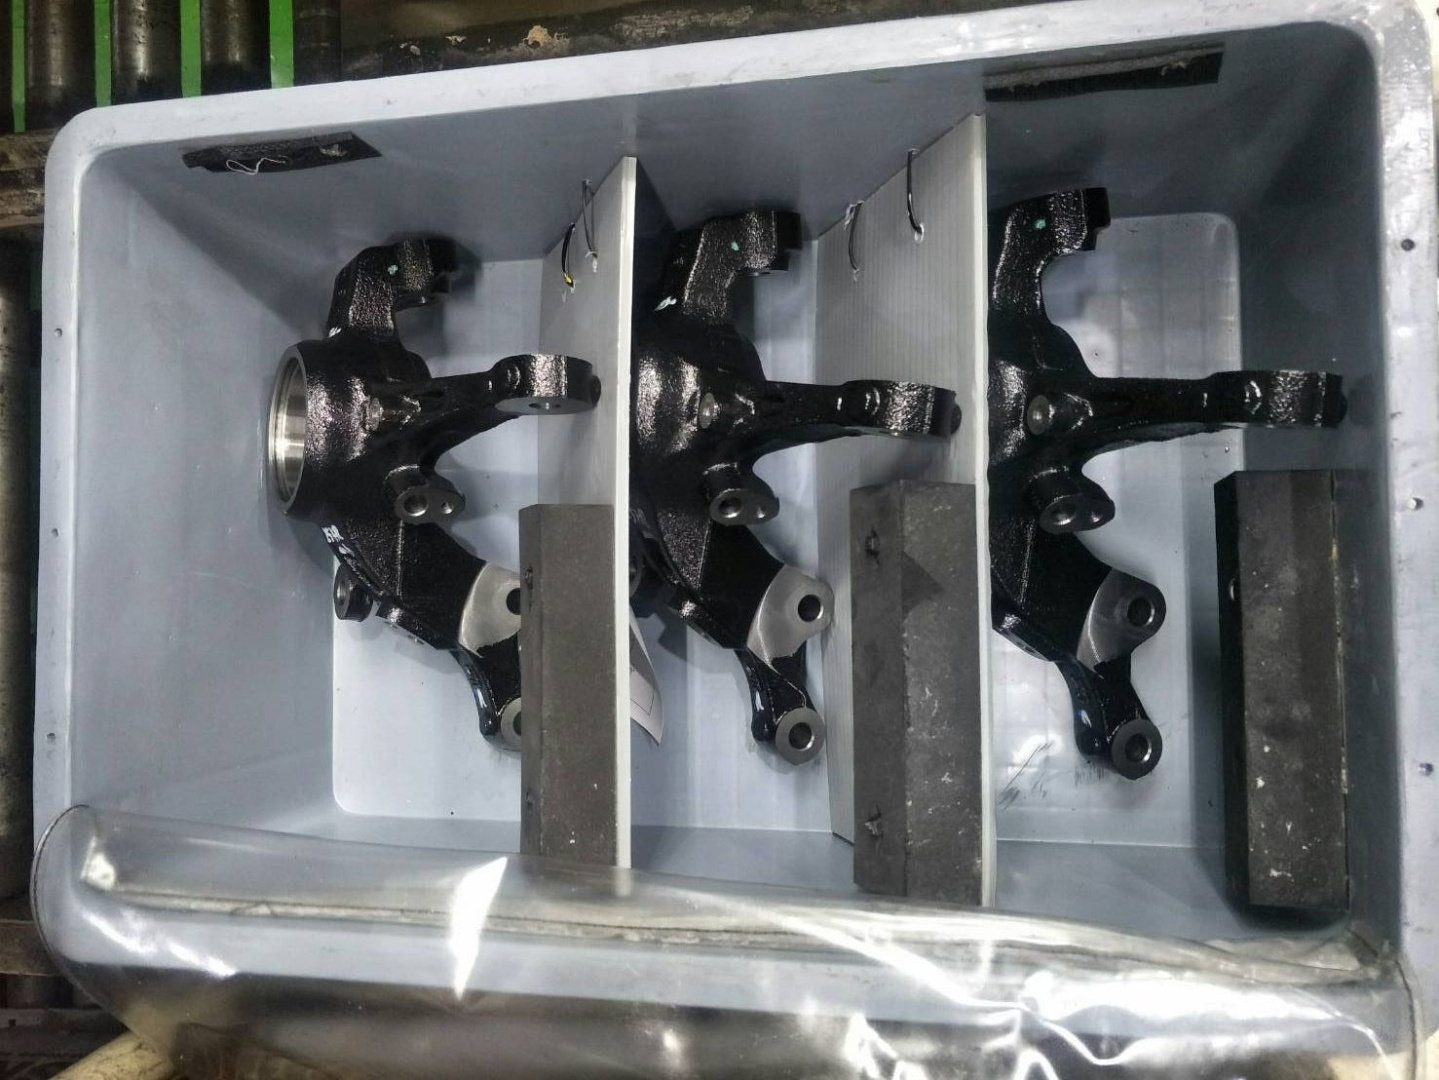abs-rh: (977, 182, 1357, 791), (621, 191, 967, 770), (253, 217, 607, 771)
